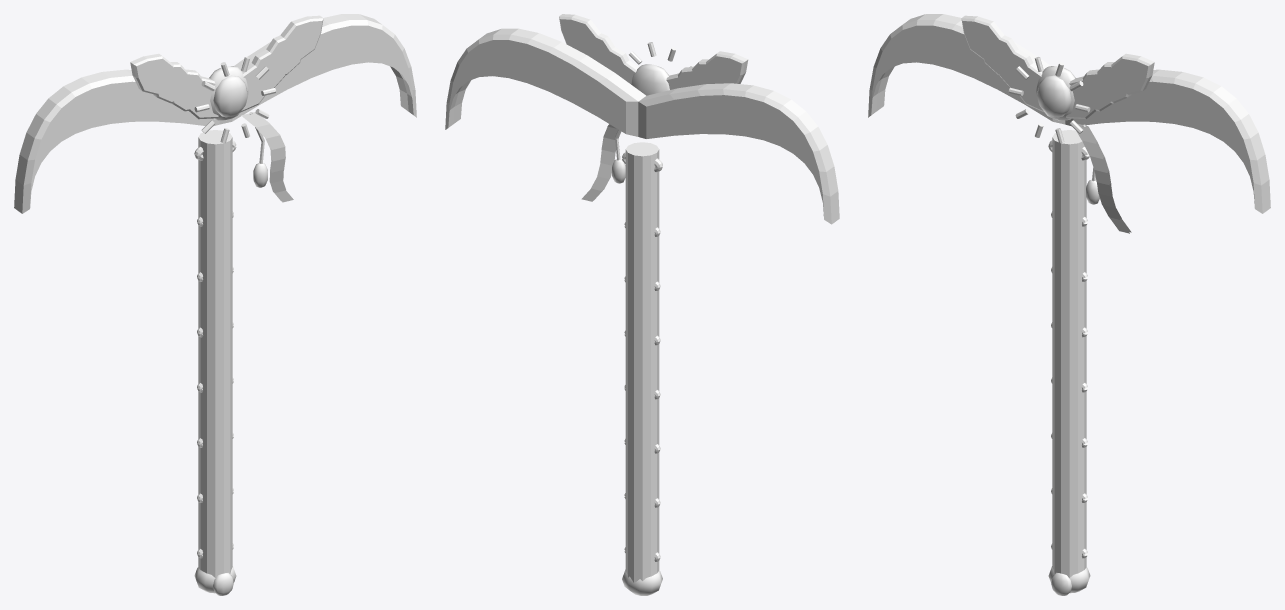
The model's file is pickaxe.obj.
3 views of the same model, side by side, from view 1: azimuth 30°, elevation 25°; view 2: azimuth 150°, elevation 25°; view 3: azimuth 330°, elevation 25° (orthographic). The views are drawn at different scales.
Size of the model in its own units: 0.6667 by 0.9073 by 0.0883.
